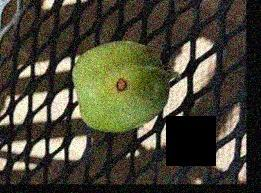rotten apple: (73, 39, 169, 131)
